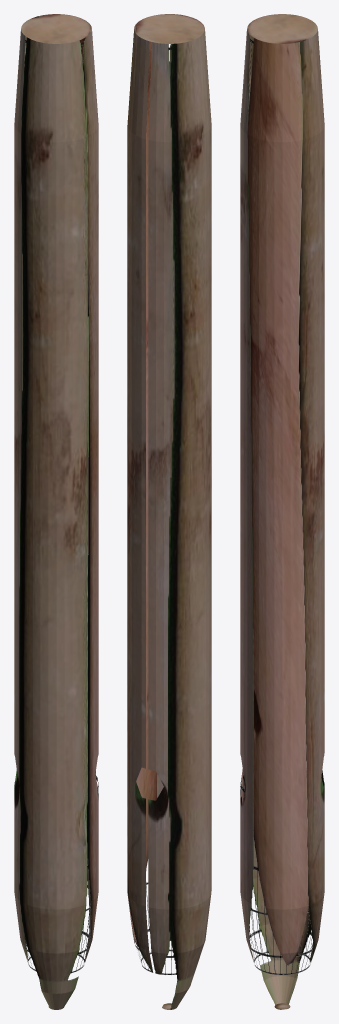
Rendered from VanikaStick.fbx.
3 renders of one model, left to right at view 1: azimuth 90°, elevation 25°; view 2: azimuth 150°, elevation 25°; view 3: azimuth 270°, elevation 25°, orthographic.
Visible parts, largest first — view 1: Цилиндр; view 2: Цилиндр; view 3: Цилиндр.
Boxes of the visible parts, x1,y1,x2,y2 form: Цилиндр: (14,14,98,1009); Цилиндр: (127,14,211,1009); Цилиндр: (240,14,324,1009).
Bounding box in the file's own units: 3 × 38.4 × 3.
